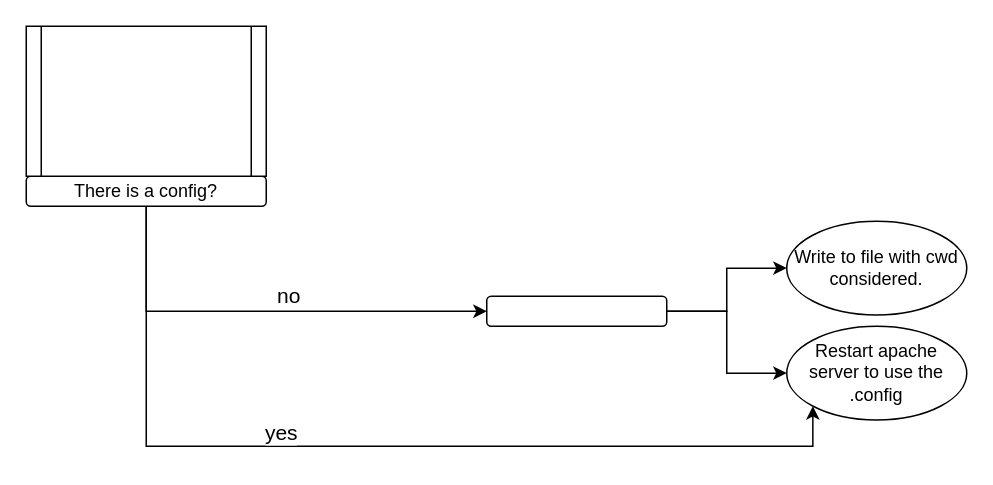
This 993x485 diagram has some shape labels left out. The box of each missing label's shape, as (x1, y1, x2, y2) in pixels:
Create config: (485, 295, 667, 326)
we need: - write acess - the cwd - the project's name - root commands: (25, 25, 266, 176)
